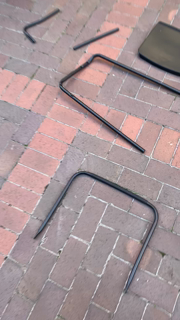C pipe: (31, 169, 161, 295)
L pipe: (22, 9, 63, 47)
U pipe: (58, 54, 180, 159)
i pipe: (73, 27, 120, 54)
